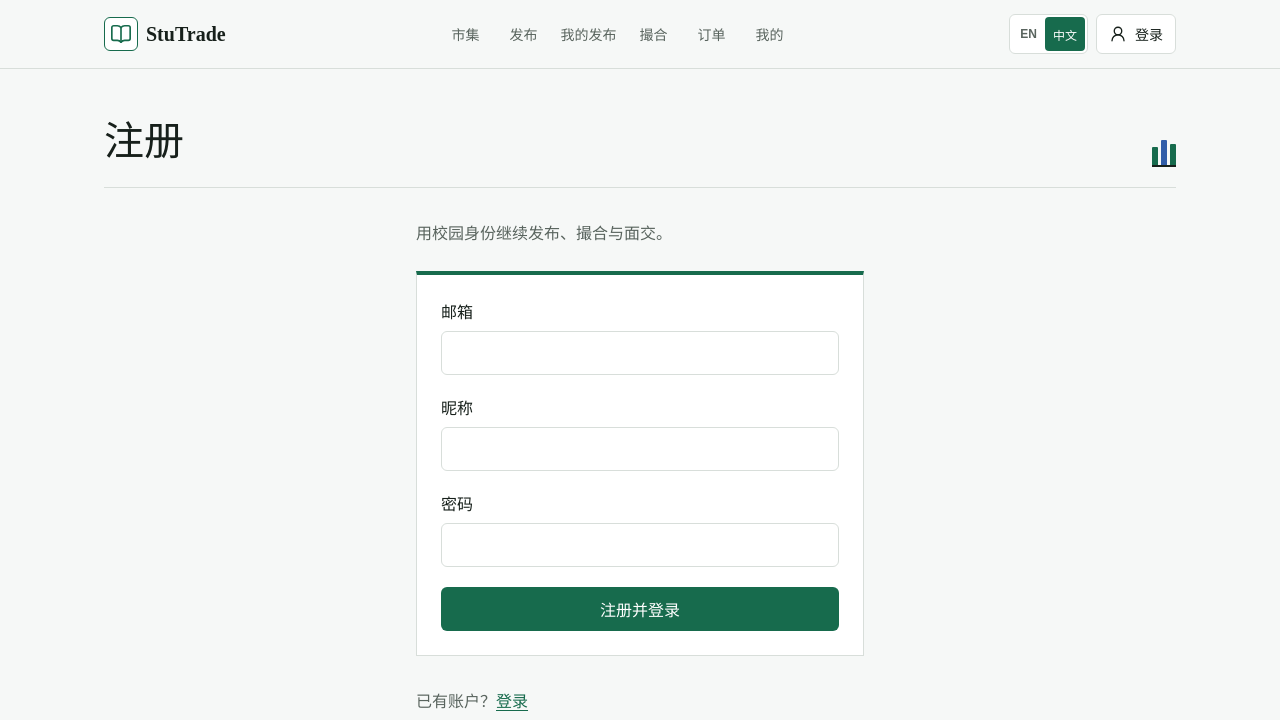
Test: authentication › registers and maps an occupied email to stable user language
The width and height of the screenshot is (1280, 720).
Type "used@example.edu" into the field labelled "邮箱" at (640, 353), box x1=441 y1=331 x2=839 y2=375
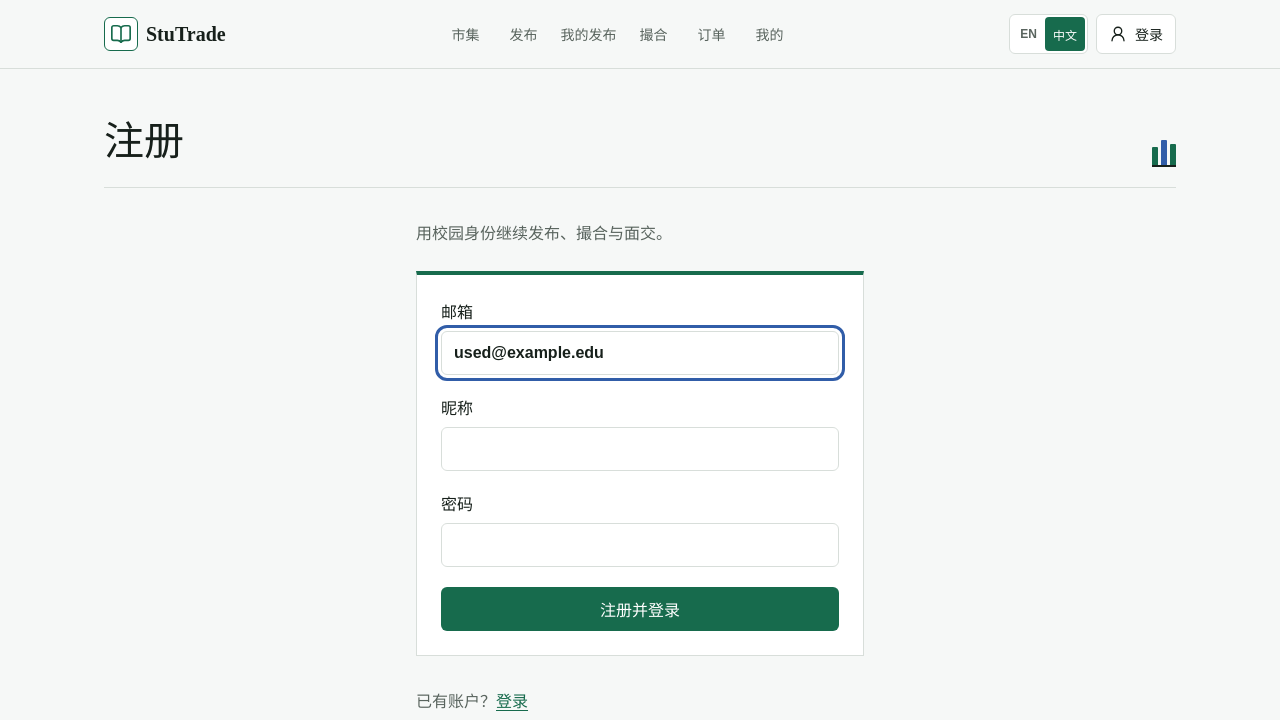
Type "新同学" into the field labelled "昵称" at (640, 449), box x1=441 y1=427 x2=839 y2=471
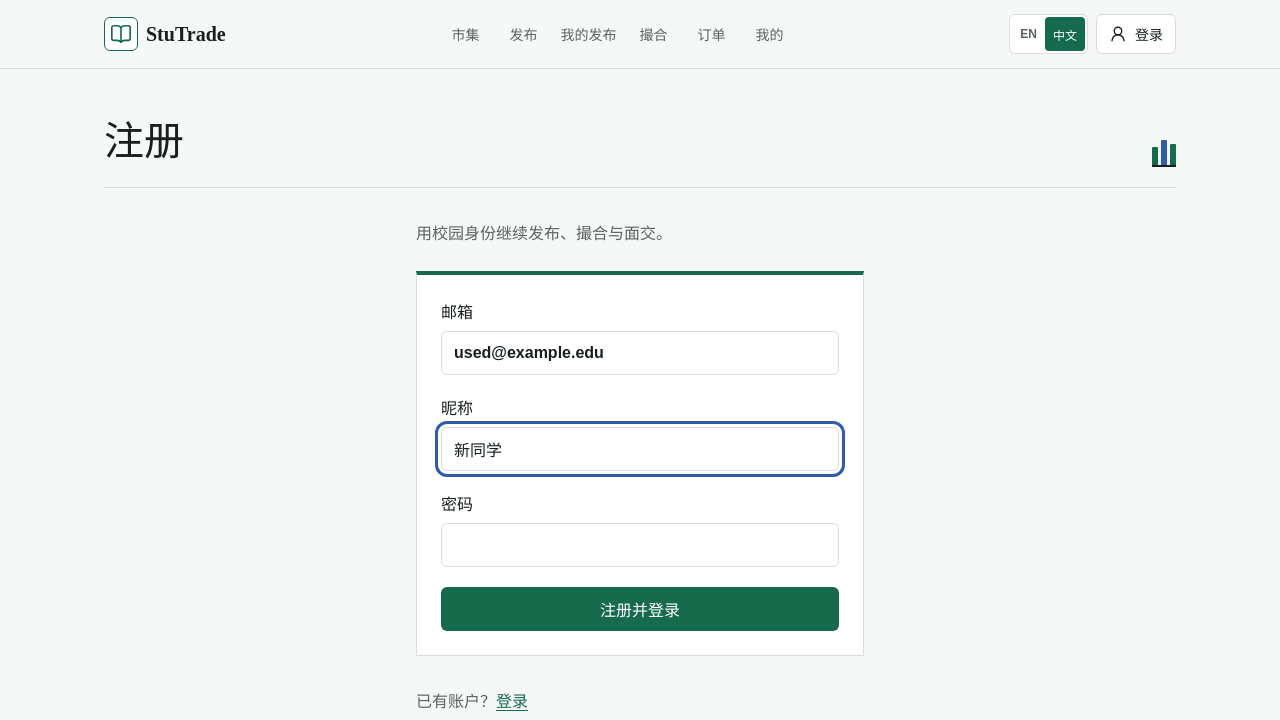
Type "secret123" into the password field labelled "密码" at (640, 545), box x1=441 y1=523 x2=839 y2=567
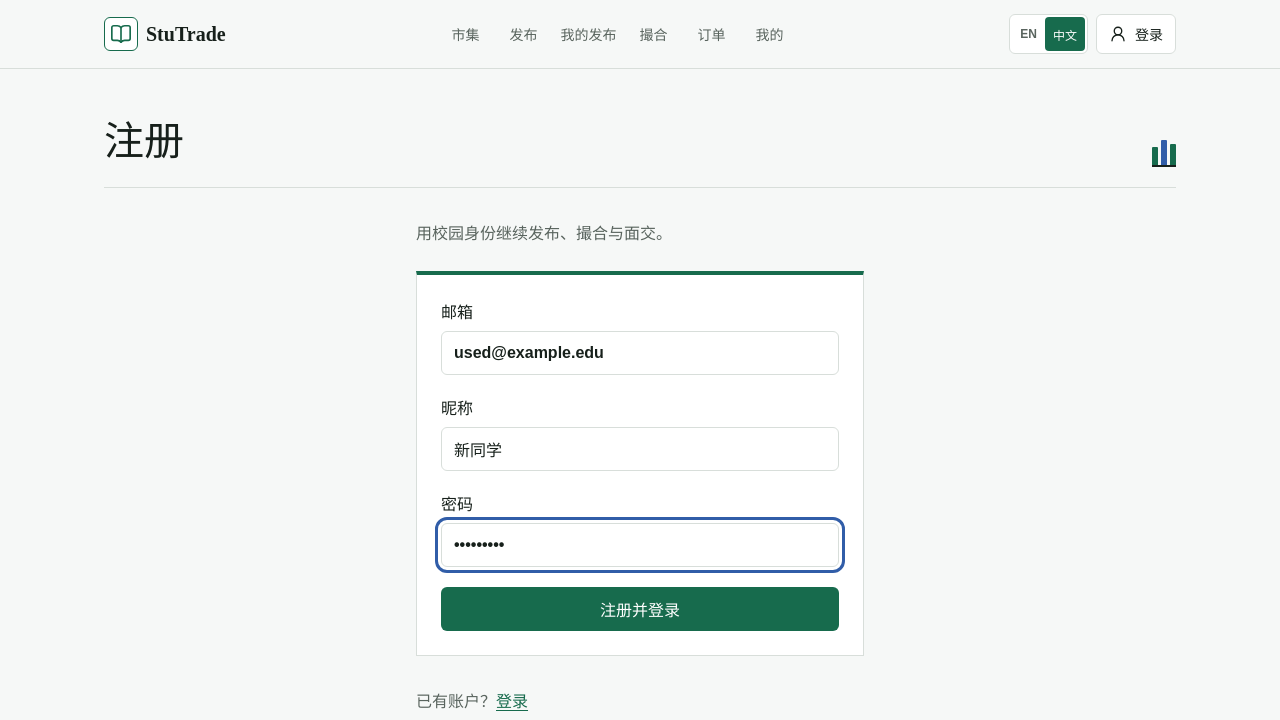
Click the button "注册并登录" at (640, 609), box x1=441 y1=587 x2=839 y2=631
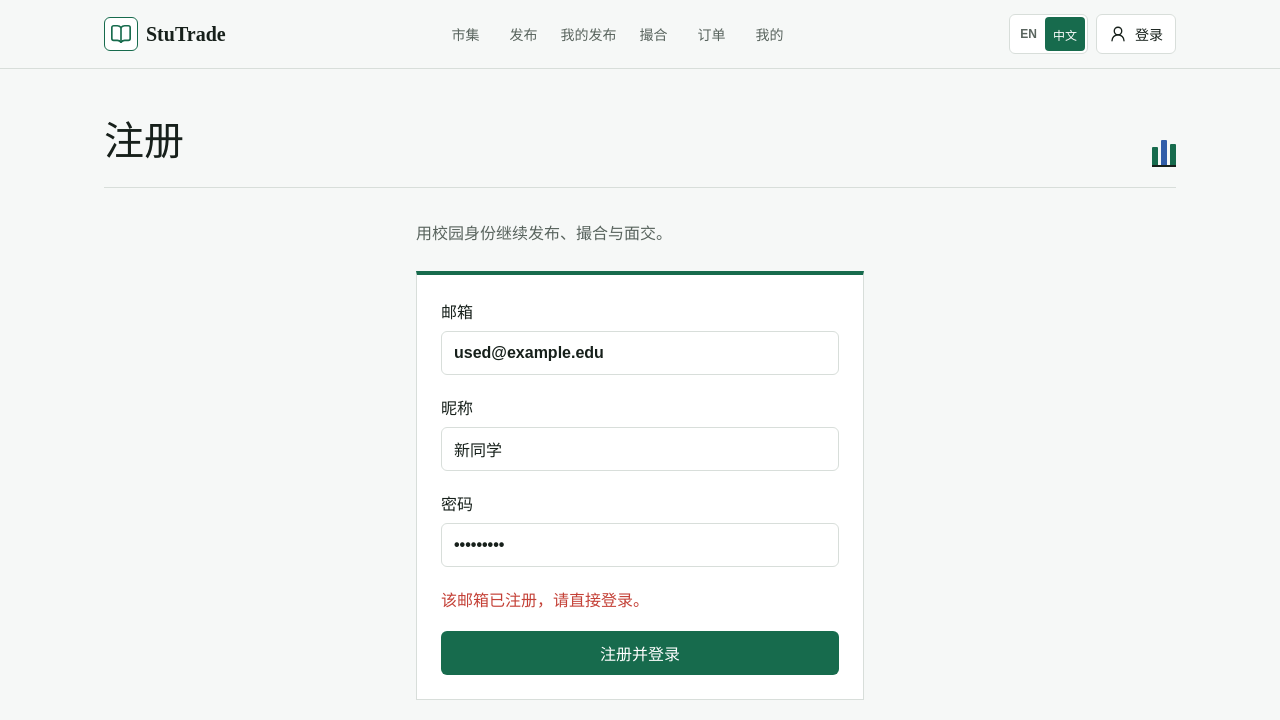
Expected: the message does not show "Internal detail", x1=441 y1=592 x2=649 y2=609
Expected: the message reads "该邮箱已注册，请直接登录。", x1=441 y1=592 x2=649 y2=609
